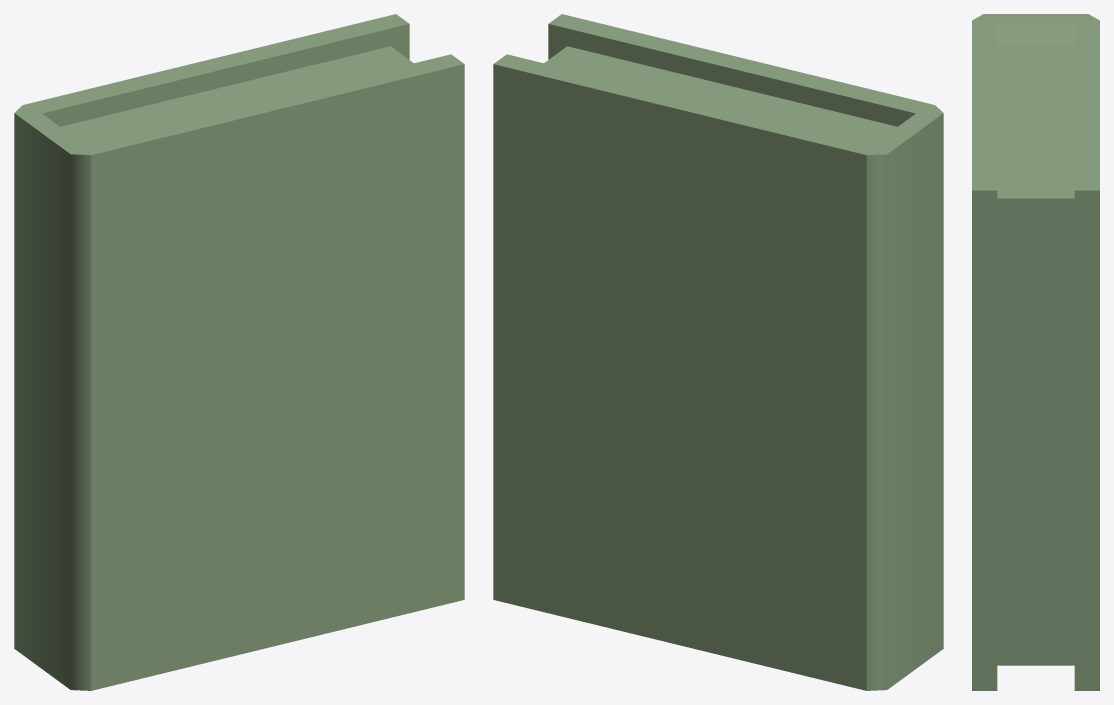
File: Book_V12.fbx
The picture shows the model from 3 angles, left to right: view 1: azimuth 30°, elevation 25°; view 2: azimuth 150°, elevation 25°; view 3: azimuth 270°, elevation 25°; orthographic projection. The views are drawn at different scales.
Parts seen in each view (by area): view 1: Book_V12; view 2: Book_V12; view 3: Book_V12.
Boxes of the visible parts, x1=… form: Book_V12: x1=14, y1=14, x2=464, y2=690; Book_V12: x1=493, y1=14, x2=943, y2=690; Book_V12: x1=972, y1=14, x2=1099, y2=690.
Bounding box in the file's own units: 22.73 × 30.01 × 6.95.
